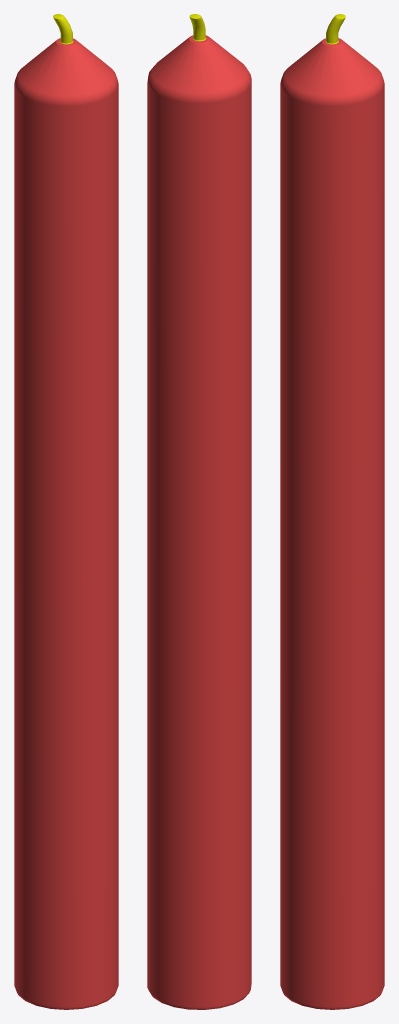
Rendered from SM_Candle1.fbx.
3 views of the same model, side by side, from view 1: azimuth 90°, elevation 25°; view 2: azimuth 150°, elevation 25°; view 3: azimuth 270°, elevation 25° (orthographic).
Parts seen in each view (by area): view 1: SM_Candle1; view 2: SM_Candle1; view 3: SM_Candle1.
Boxes of the visible parts, left/top/right/bottom form: SM_Candle1: left=14, top=14, right=118, bottom=1009; SM_Candle1: left=147, top=14, right=251, bottom=1009; SM_Candle1: left=280, top=14, right=384, bottom=1009.
Bounding box in the file's own units: 2 × 20.54 × 2.
